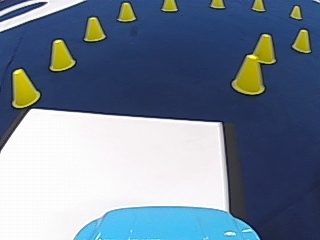cone: (231, 52, 265, 94), (10, 67, 40, 107), (48, 38, 75, 71), (251, 33, 276, 64), (83, 15, 106, 41), (291, 28, 311, 52), (117, 1, 135, 22), (289, 4, 302, 19), (161, 0, 177, 11), (251, 0, 265, 11), (210, 0, 224, 9)
